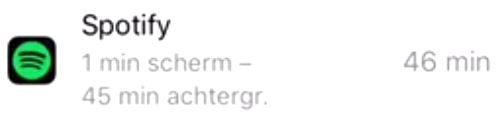name: (74, 6, 186, 45)
time: (77, 84, 164, 110), (76, 52, 146, 75)
